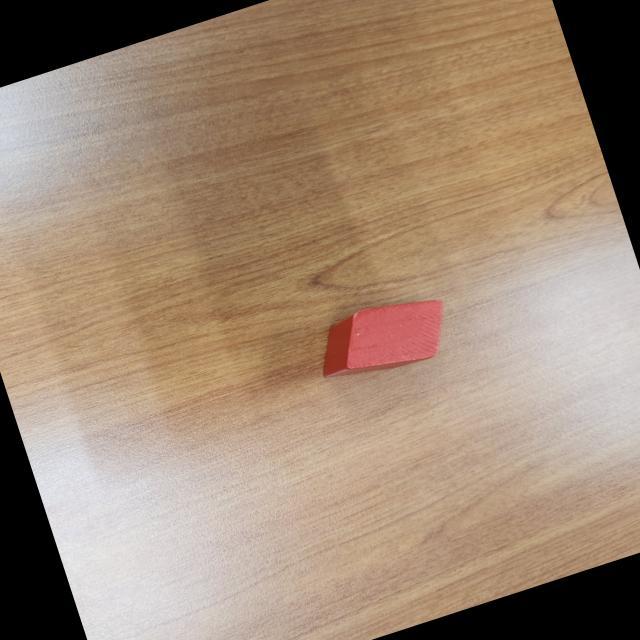red: (306, 285, 458, 393)
